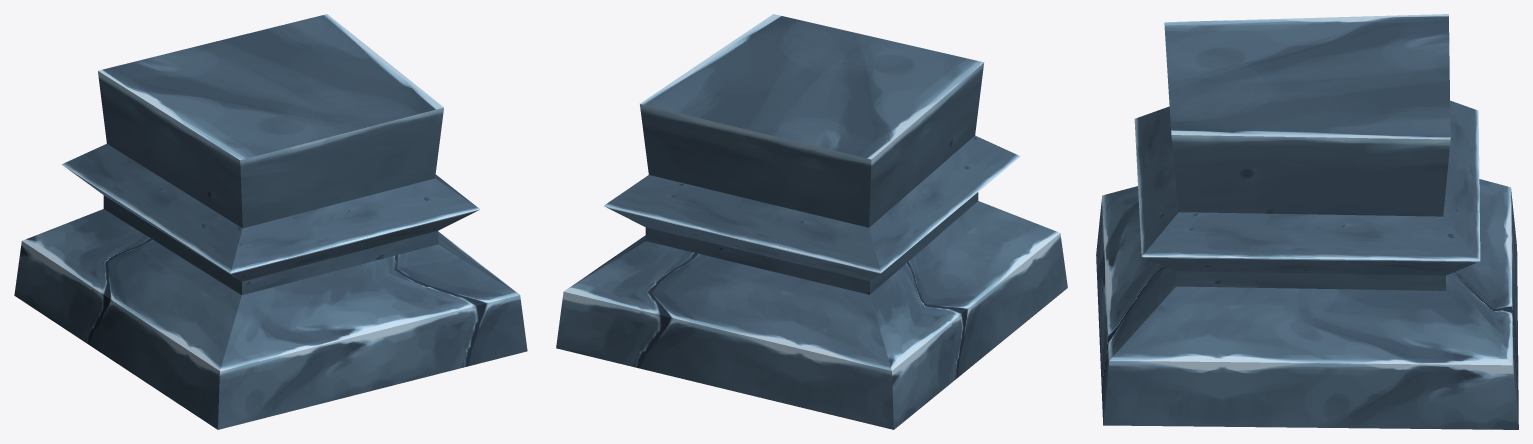
The model's file is SM_PROP_gravestone_base_07.fbx.
3 views of the same model, side by side, from view 1: azimuth 30°, elevation 25°; view 2: azimuth 150°, elevation 25°; view 3: azimuth 270°, elevation 25° (orthographic). The views are drawn at different scales.
Parts seen in each view (by area): view 1: SM_PROP_gravestone_base_07; view 2: SM_PROP_gravestone_base_07; view 3: SM_PROP_gravestone_base_07.
Part boxes in pixels (box(x1,y1,x2,y2)): SM_PROP_gravestone_base_07: box(14, 14, 527, 429); SM_PROP_gravestone_base_07: box(556, 14, 1067, 429); SM_PROP_gravestone_base_07: box(1096, 14, 1518, 429).
Size of the model in its own units: 120 by 80 by 117.
